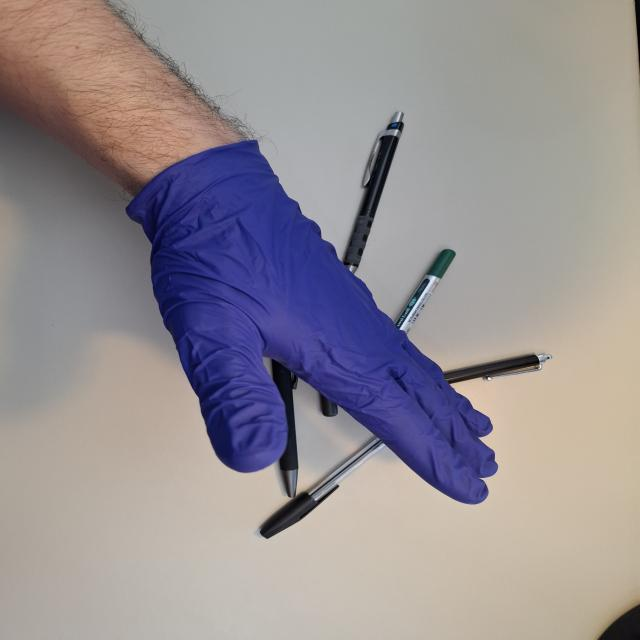glove_on: (122, 135, 502, 507)
